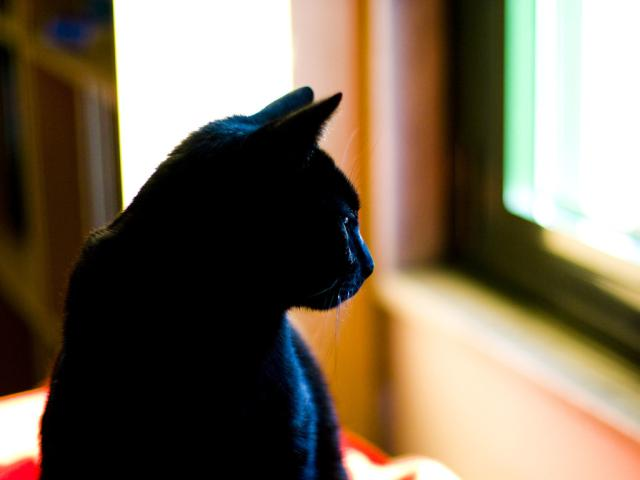Cat: (31, 84, 374, 480)
